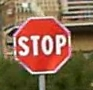stop: (11, 15, 71, 74)
